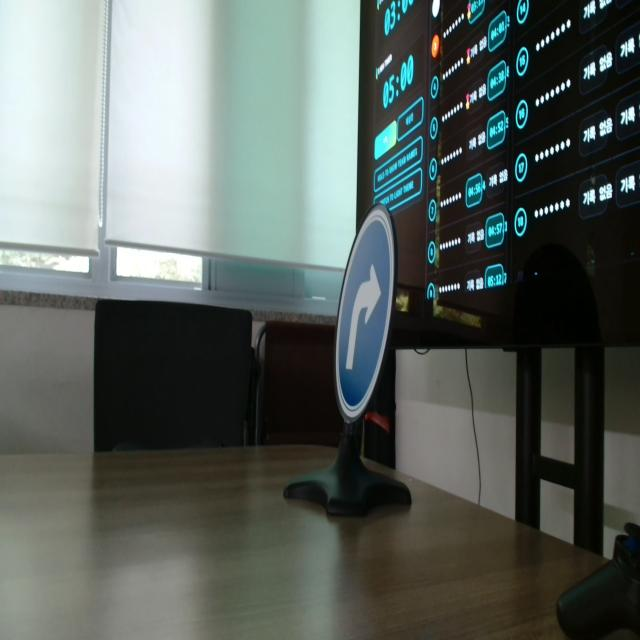right_dierection: (336, 208, 397, 421)
